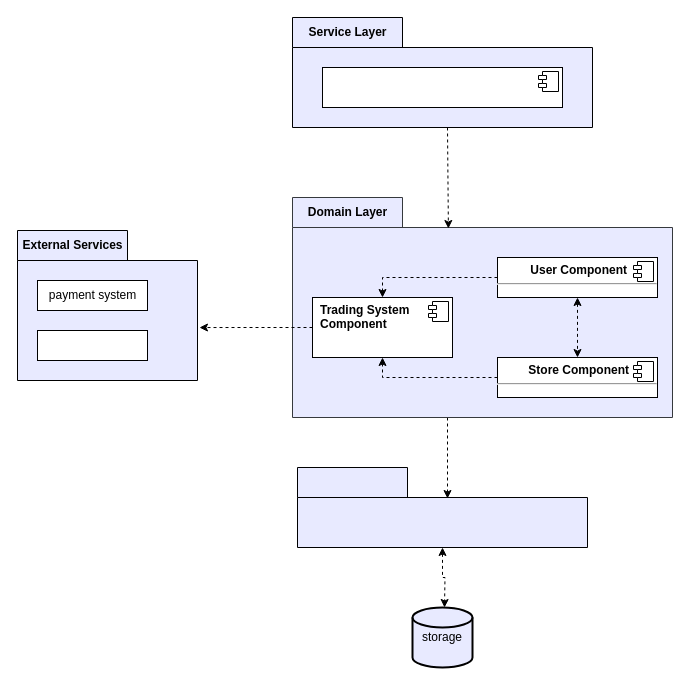
Image size: 690x686. Some labels were removed from this diagram. The centre of each missing label's shape, as x and y in pixels:
Data Access Layer: the point at 442,507
supply systme: the point at 92,345
System Services Component: the point at 442,87
